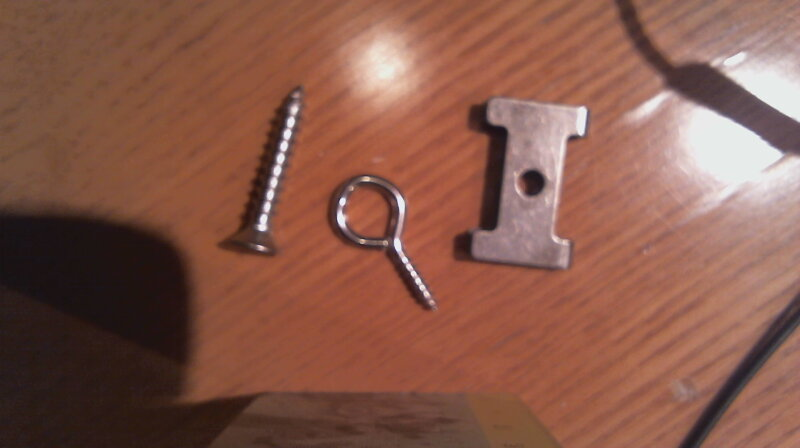O001: (324, 170, 444, 317)
O002: (464, 95, 591, 276)
S001: (225, 83, 312, 262)
